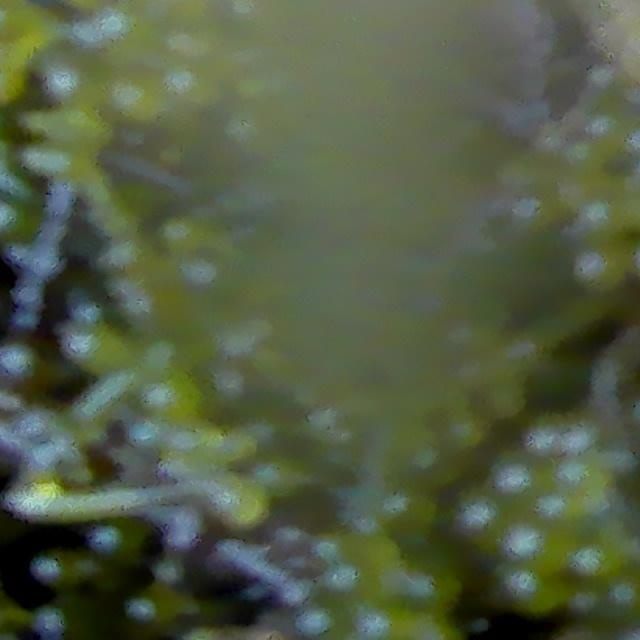SeaGrape: (505, 566, 567, 619), (505, 522, 568, 573), (116, 67, 167, 123), (166, 511, 213, 570), (460, 498, 512, 551), (0, 342, 44, 400), (494, 455, 543, 507), (576, 244, 627, 293), (216, 477, 267, 526), (144, 376, 195, 425), (64, 322, 115, 371), (558, 457, 605, 503), (534, 492, 585, 531), (577, 540, 621, 580)
